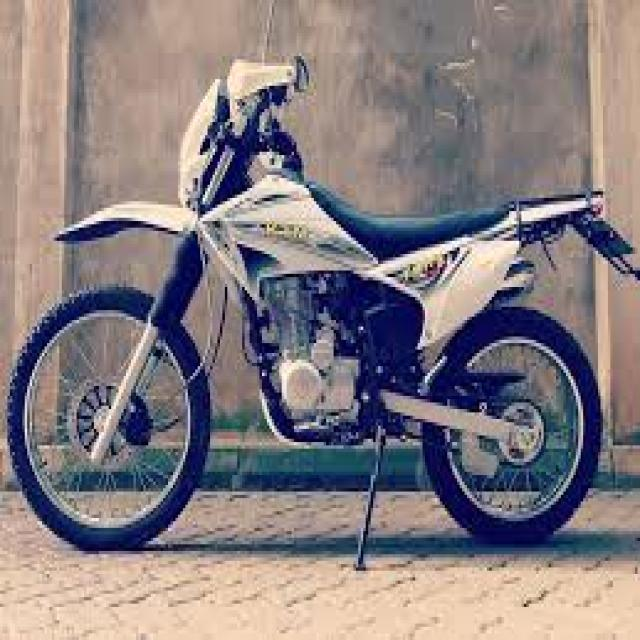bodaboda: (3, 14, 636, 594)
